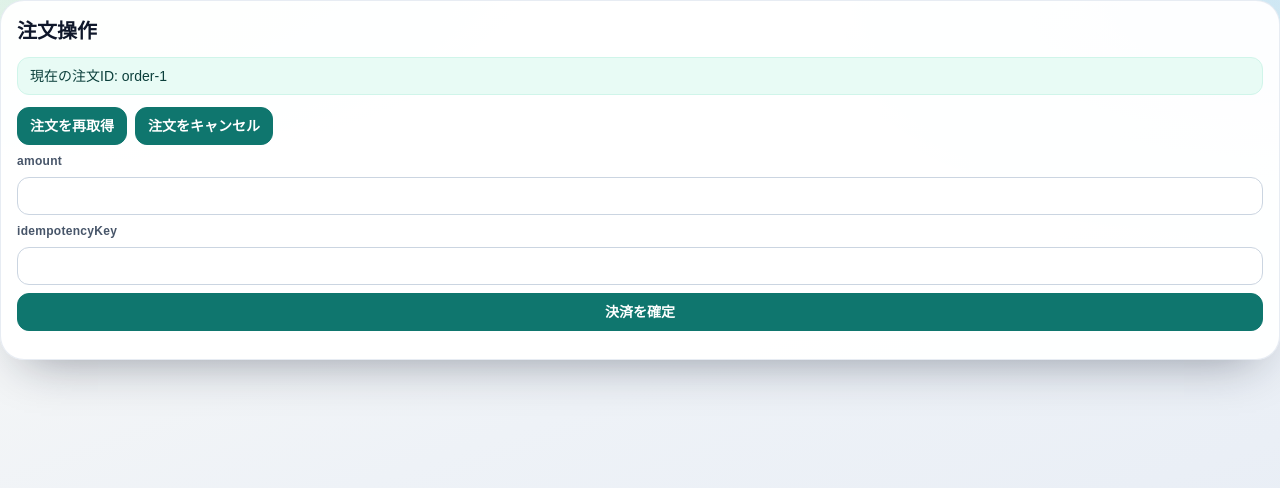
Test: OrderActionsPanel › 決済確定で200を表示する
Type "100" into the number field labelled "amount".
click(640, 196); type("100")  # box [17,177,1263,215]
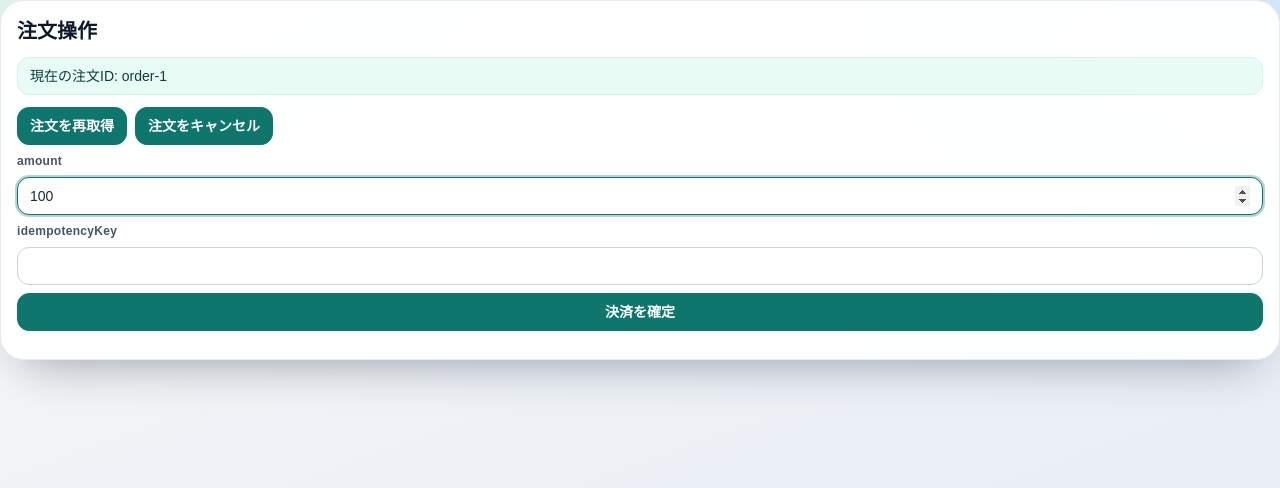
Type "k-1" into the field labelled "idempotencyKey".
click(640, 266); type("k-1")  # box [17,247,1263,285]
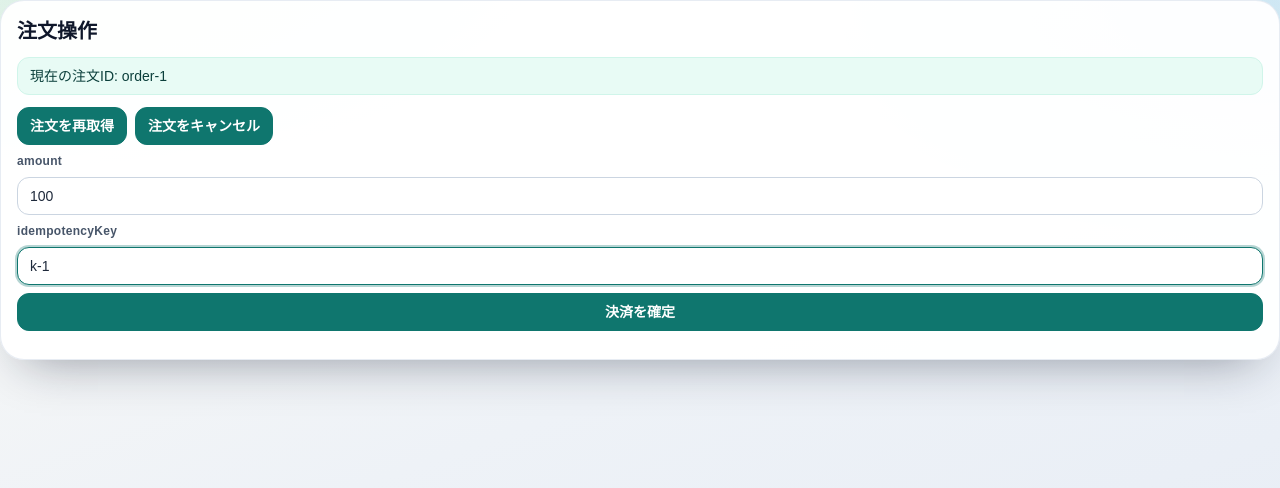
Click the button "決済を確定".
click(640, 312)  # box [17,293,1263,331]
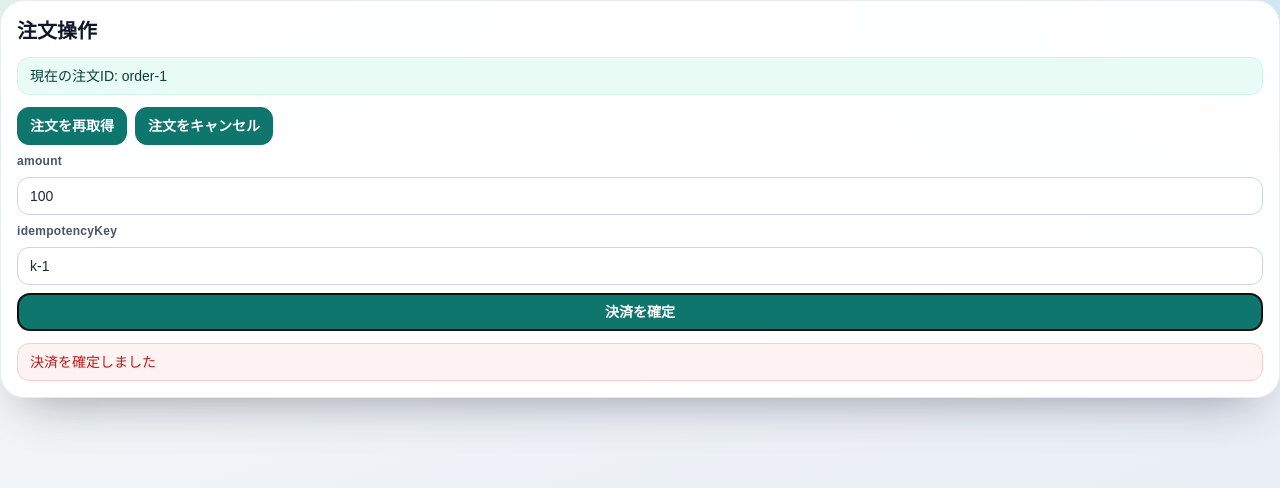
Now the text "決済を確定しました" is shown, box [17,343,1263,381]
